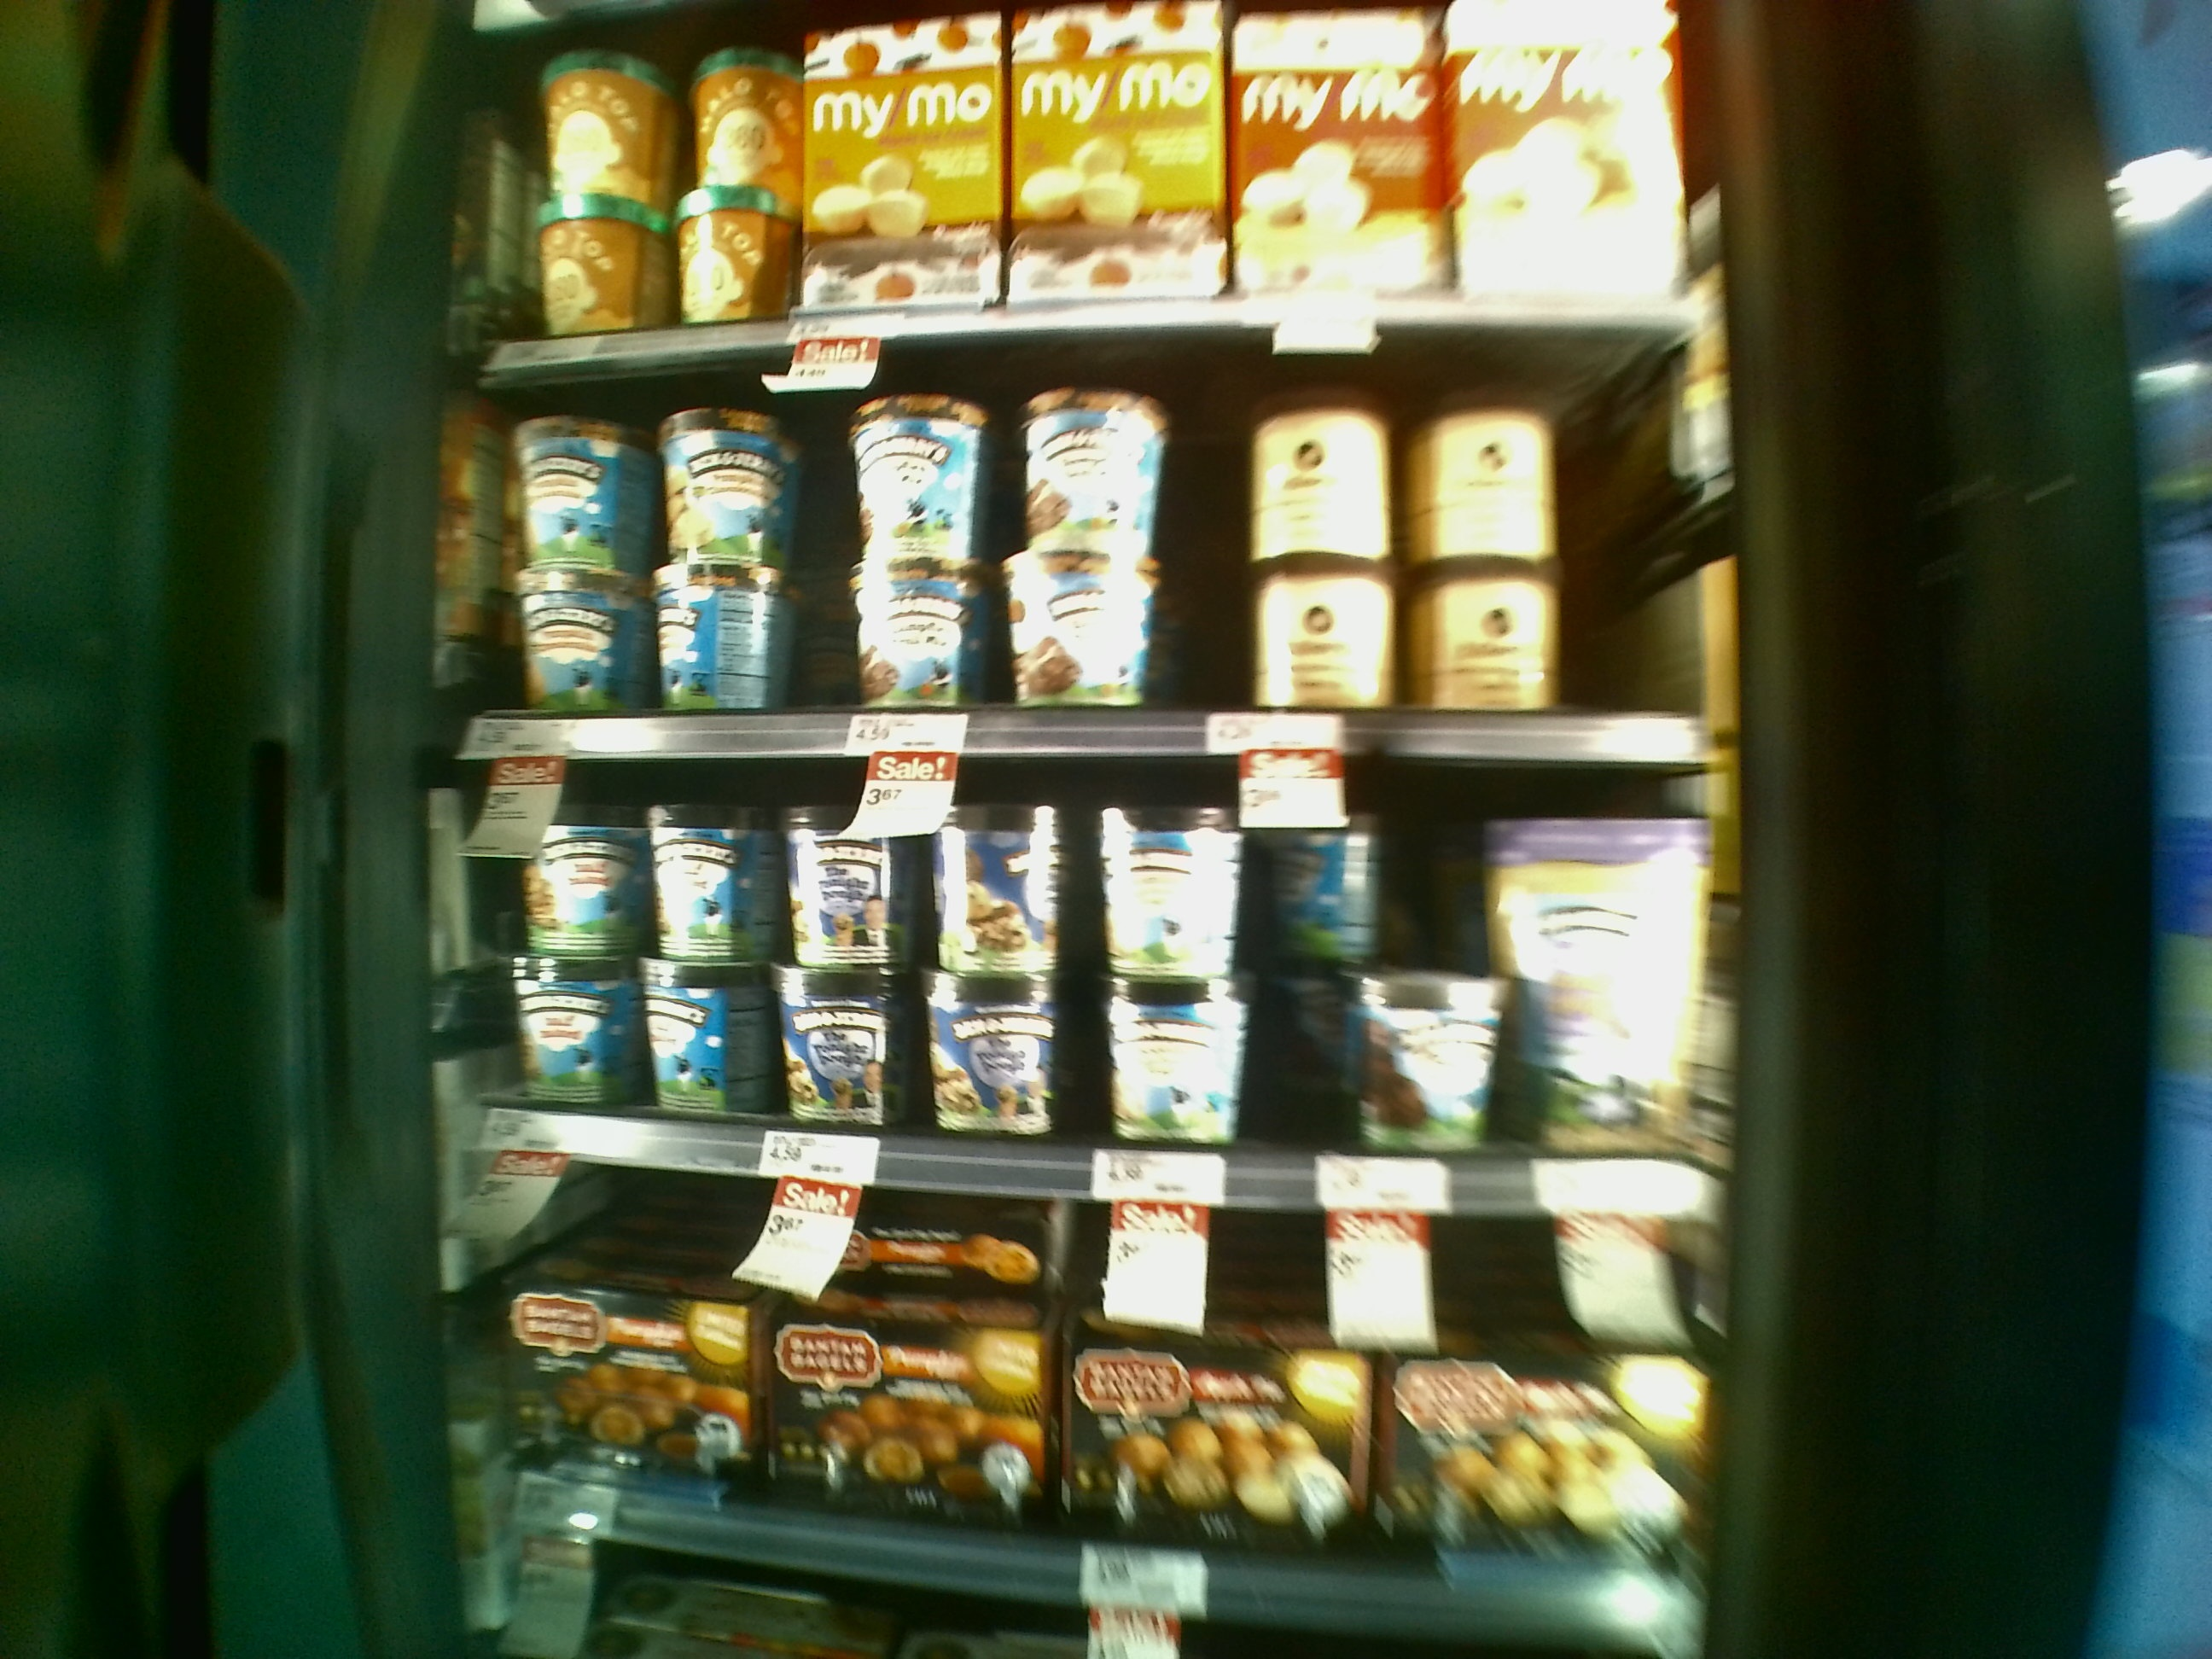shelf: (462, 1148, 1719, 1640), (427, 765, 1719, 1223), (435, 359, 1730, 779)
